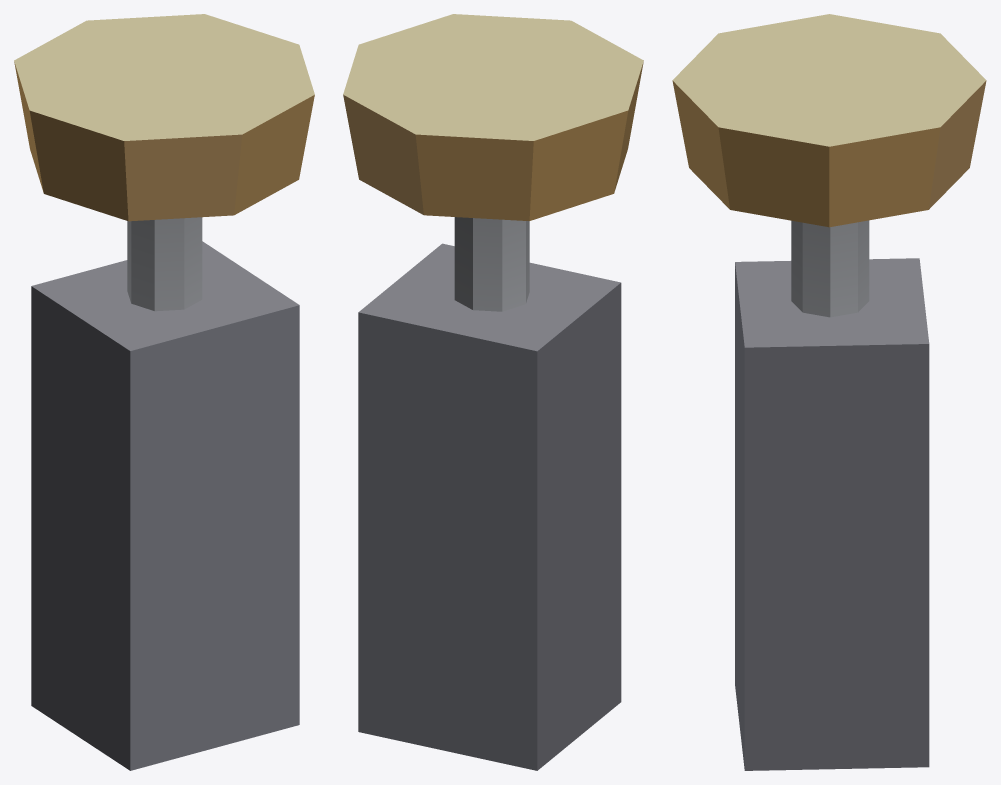
Rendered from garyCannonLight.glb.
The picture shows the model from 3 angles, left to right: view 1: azimuth 30°, elevation 25°; view 2: azimuth 150°, elevation 25°; view 3: azimuth 270°, elevation 25°; orthographic projection.
Parts seen in each view (by area): view 1: garyCannonLight; view 2: garyCannonLight; view 3: garyCannonLight.
Boxes of the visible parts, box(x1,y1,x2,y2) form: garyCannonLight: box(14, 14, 314, 770); garyCannonLight: box(343, 14, 643, 770); garyCannonLight: box(672, 14, 986, 770).
Bounding box in the file's own units: 0.4292 × 0.9719 × 0.4292.
